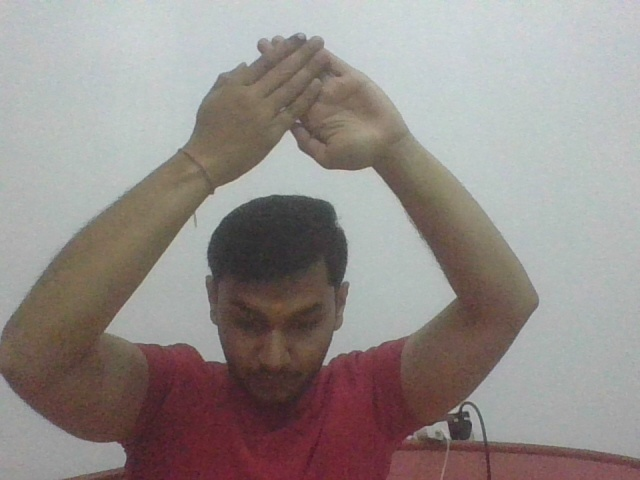H: (194, 27, 394, 182)
